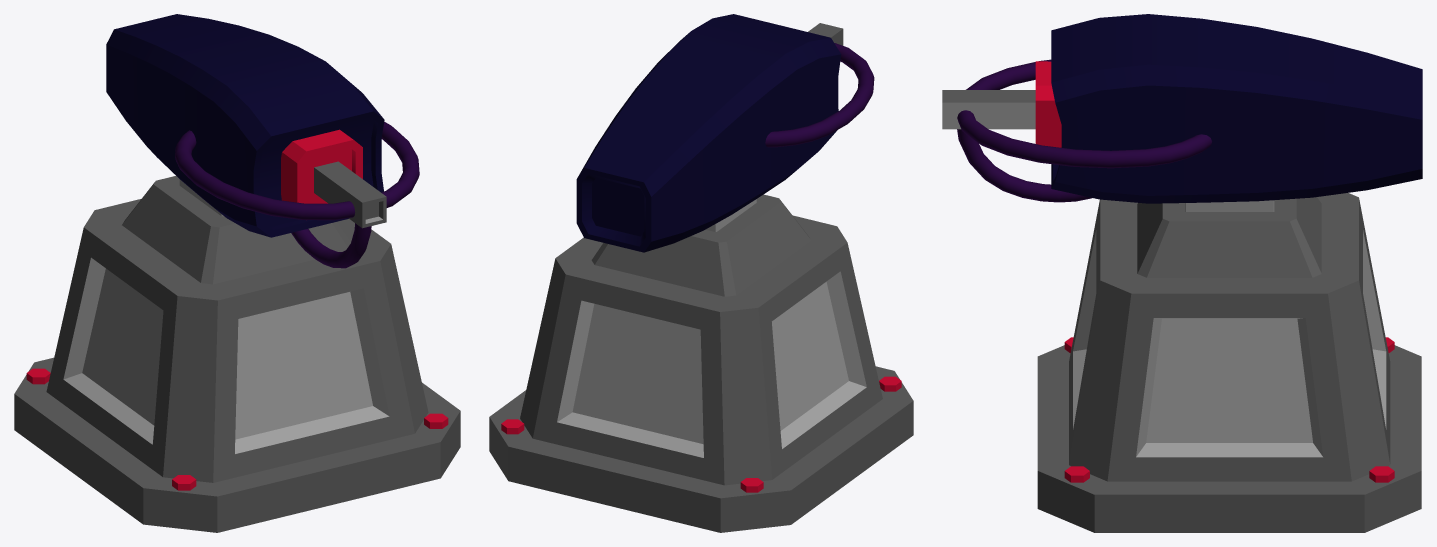
Rendered from LaserBeamer.fbx.
3 renders of one model, left to right at view 1: azimuth 30°, elevation 25°; view 2: azimuth 150°, elevation 25°; view 3: azimuth 270°, elevation 25°, orthographic. The views are drawn at different scales.
Visible parts, largest first — view 1: Beamer_Base, Beamer_Head; view 2: Beamer_Base, Beamer_Head; view 3: Beamer_Base, Beamer_Head.
Boxes of the visible parts, bbox=[...] form: Beamer_Base: bbox=[14, 176, 460, 532]; Beamer_Head: bbox=[106, 14, 419, 268]; Beamer_Base: bbox=[489, 194, 913, 532]; Beamer_Head: bbox=[576, 14, 874, 252]; Beamer_Base: bbox=[1037, 193, 1421, 532]; Beamer_Head: bbox=[942, 14, 1422, 203].
Bounding box in the file's own units: 231 × 274 × 289.
